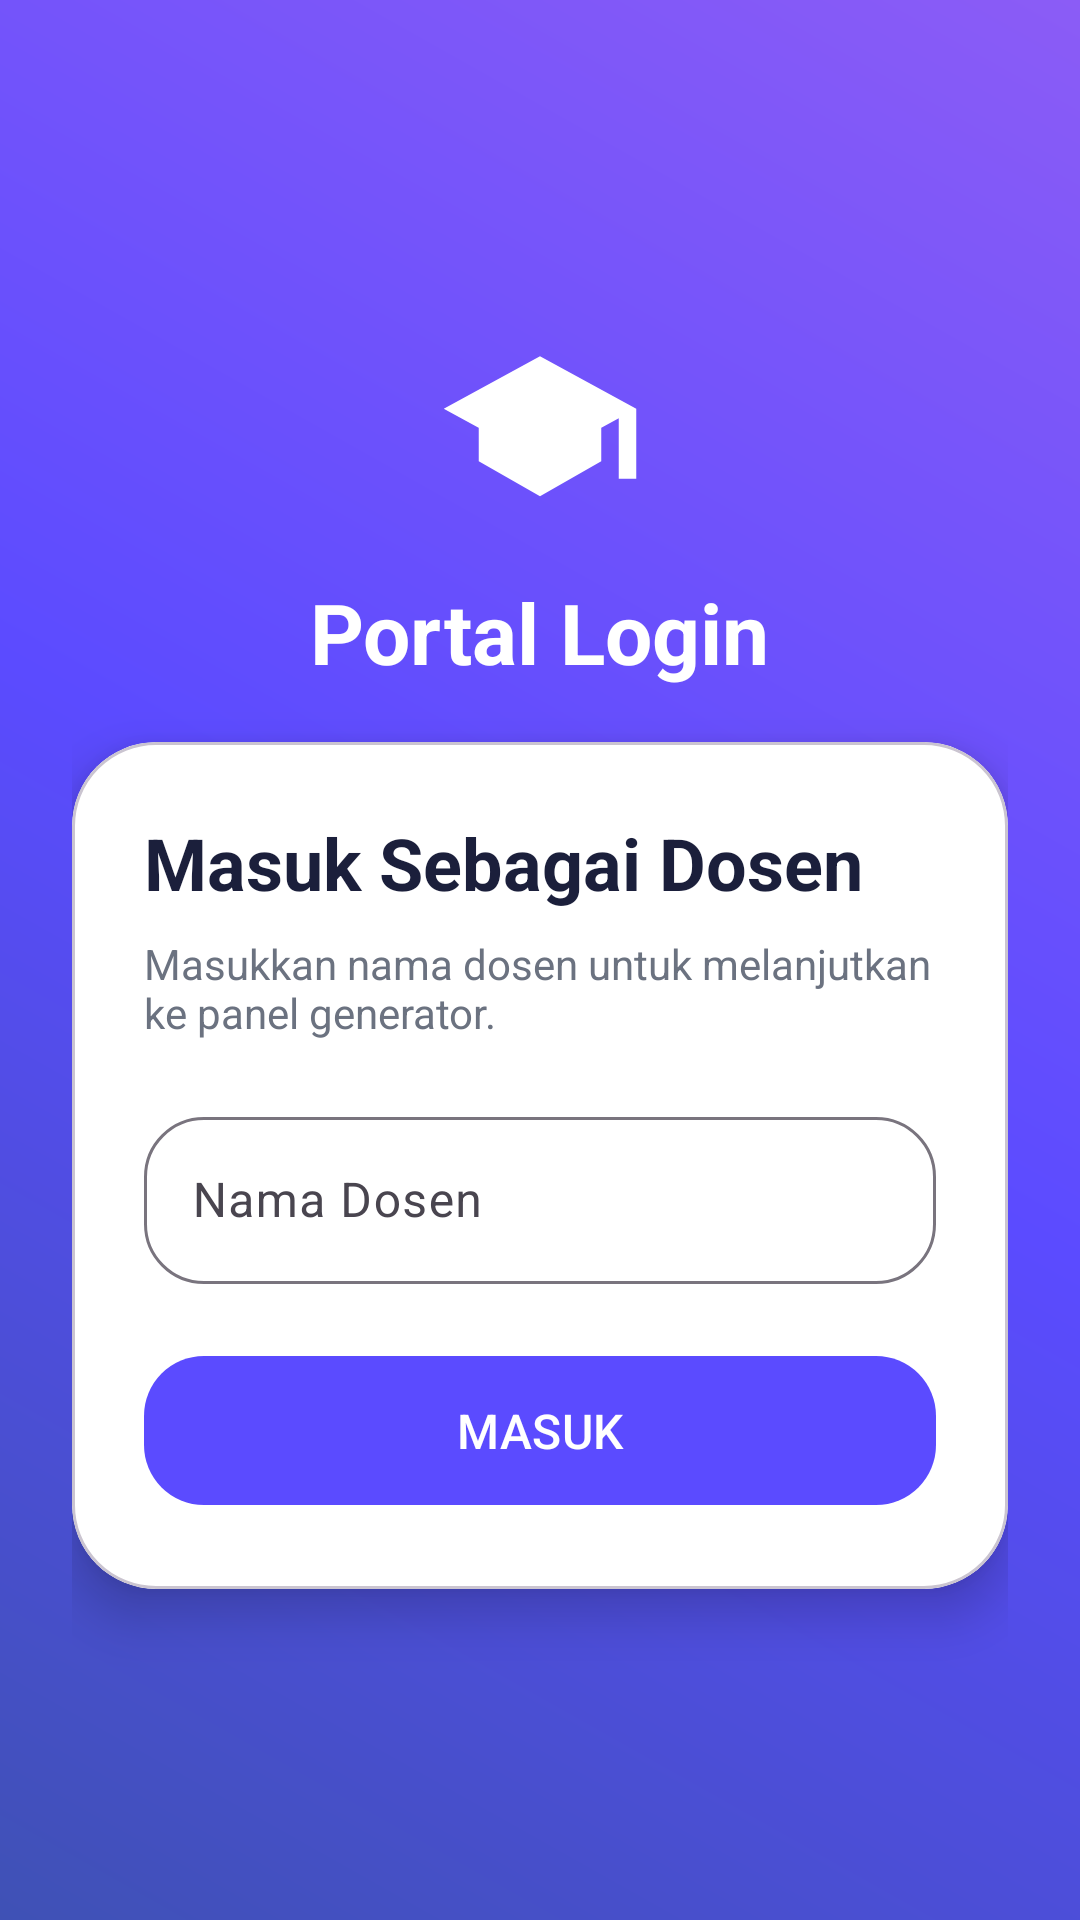

Where to tap for icons on this 1080x1920 app screen, as (x,y):
academic: (540,426)
